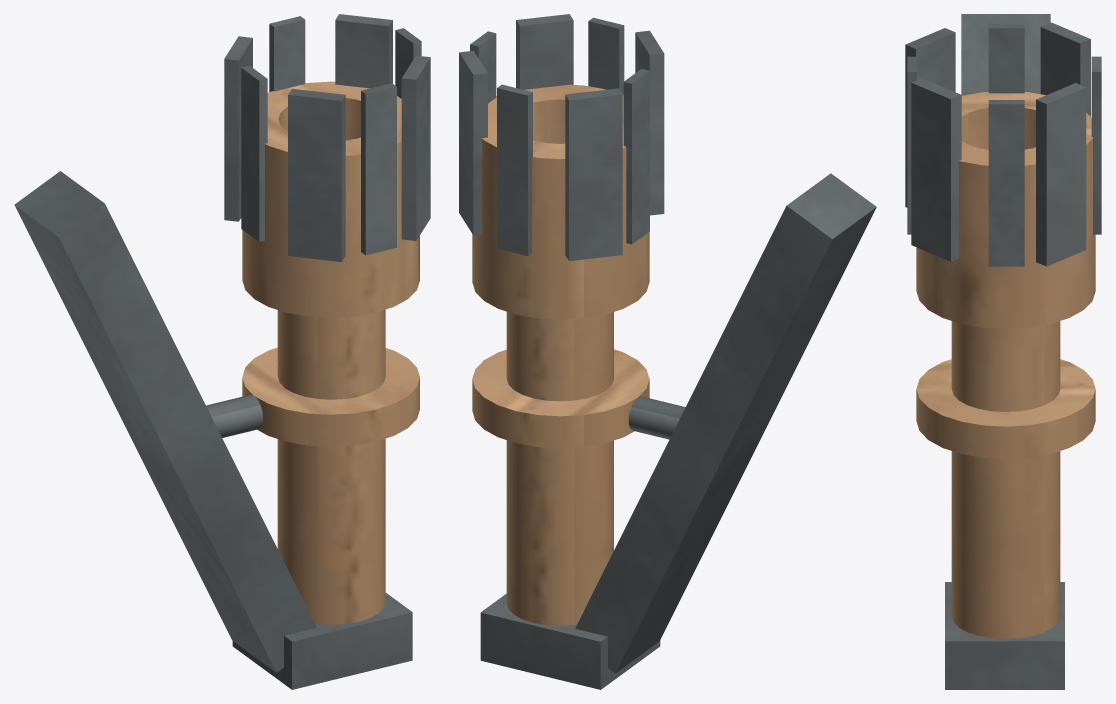
Rendered from WallSconce.fbx.
3 views of the same model, side by side, from view 1: azimuth 30°, elevation 25°; view 2: azimuth 150°, elevation 25°; view 3: azimuth 270°, elevation 25° (orthographic).
Visible parts, largest first — view 1: block_quarter (×9), cylinderHollow (×2), cylinder, block_half, attachment_barrelThin; view 2: block_quarter (×9), cylinderHollow (×2), cylinder, block_half, attachment_barrelThin; view 3: block_quarter (×9), cylinderHollow (×2), cylinder, block_half.
Boxes of the visible parts, x1=… form: block_quarter (×9): x1=14, y1=14, x2=430, y2=672; cylinderHollow (×2): x1=242, y1=81, x2=419, y2=446; cylinder: x1=277, y1=309, x2=385, y2=624; block_half: x1=232, y1=593, x2=412, y2=689; attachment_barrelThin: x1=206, y1=394, x2=263, y2=437; block_quarter (×9): x1=459, y1=14, x2=876, y2=673; cylinderHollow (×2): x1=472, y1=84, x2=649, y2=448; cylinder: x1=506, y1=311, x2=613, y2=625; block_half: x1=480, y1=593, x2=660, y2=689; attachment_barrelThin: x1=628, y1=396, x2=685, y2=439; block_quarter (×9): x1=905, y1=14, x2=1101, y2=266; cylinderHollow (×2): x1=916, y1=92, x2=1095, y2=458; cylinder: x1=951, y1=321, x2=1060, y2=638; block_half: x1=945, y1=582, x2=1064, y2=689.
Bounding box in the file's own units: 1.3 × 1.96 × 0.5812.
3 materials, 3 textured.
